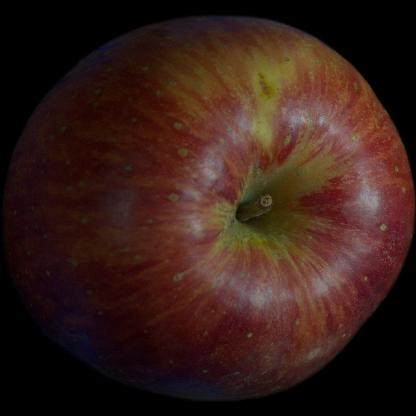defect: (124, 108, 208, 334)
